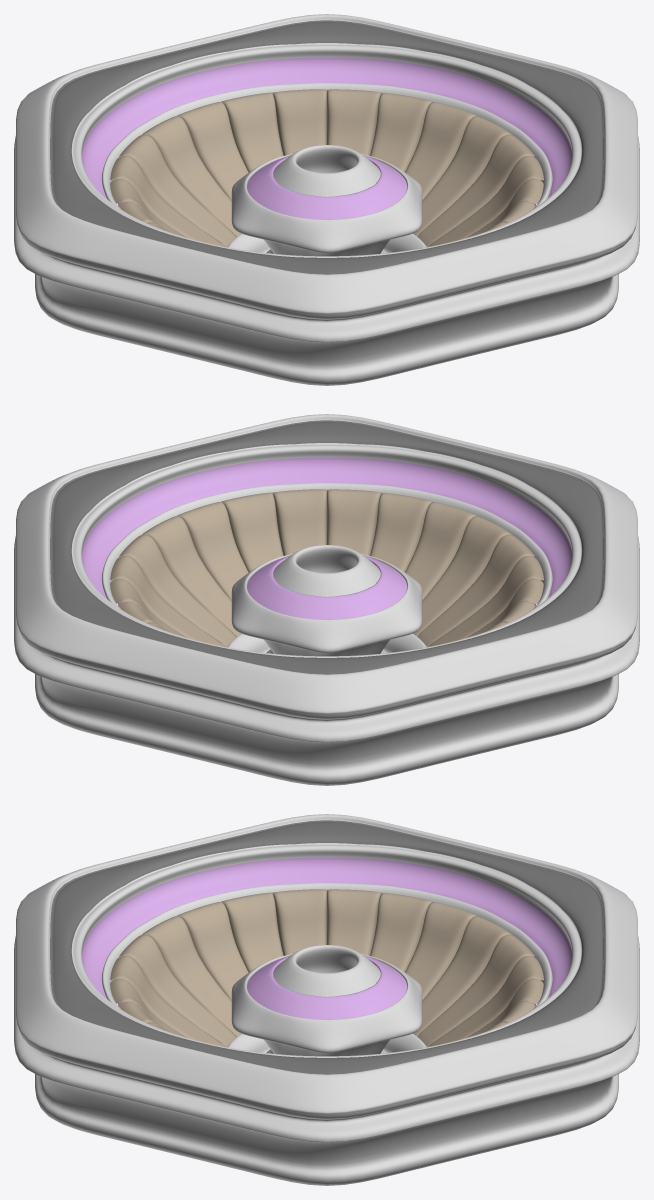
The model's file is orbiter.gltf.
The picture shows the model from 3 angles, top to bottom: view 1: azimuth 30°, elevation 25°; view 2: azimuth 150°, elevation 25°; view 3: azimuth 270°, elevation 25°; orthographic projection.
Visible parts, largest first — view 1: body, flower; view 2: body, flower; view 3: body, flower.
Part boxes in pixels (x1,y1,x2,y2): body: (14,14,639,385); flower: (110,89,543,247); body: (14,414,639,785); flower: (110,489,543,647); body: (14,814,639,1185); flower: (110,889,543,1047).
Bounding box in the file's own units: 2.77 × 0.5811 × 2.5.
